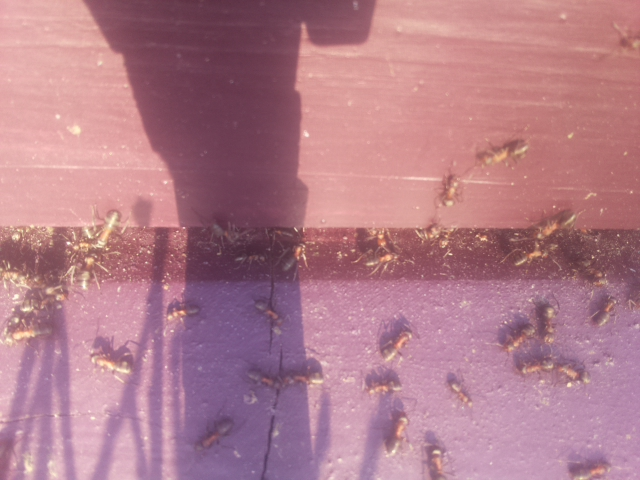ant: (468, 132, 535, 174), (186, 409, 242, 459), (80, 202, 128, 259), (525, 204, 586, 246), (0, 295, 46, 344), (250, 291, 287, 341), (600, 20, 640, 63), (83, 348, 139, 378), (378, 323, 417, 365), (382, 408, 414, 459), (443, 367, 477, 415), (586, 290, 622, 332), (420, 436, 453, 480), (499, 318, 538, 355), (436, 166, 467, 210), (72, 253, 101, 294), (162, 298, 201, 325), (285, 236, 310, 278), (361, 249, 401, 269), (539, 300, 556, 347), (361, 377, 402, 394), (619, 27, 640, 53)
